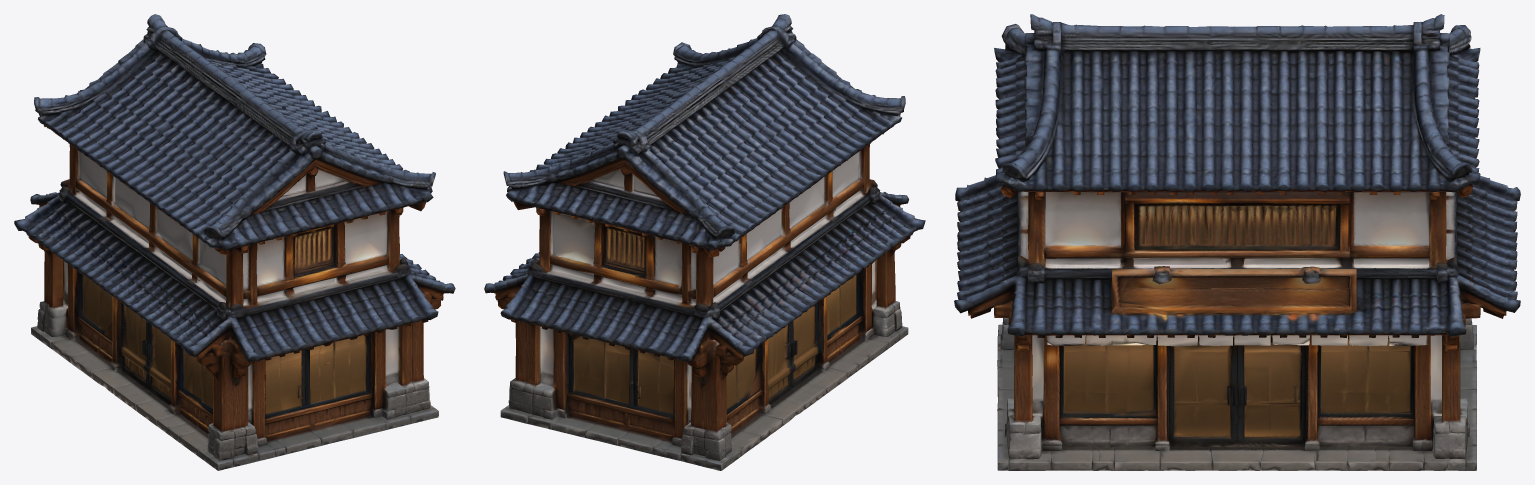
The model's file is level-2-web.glb.
3 renders of one model, left to right at view 1: azimuth 30°, elevation 25°; view 2: azimuth 150°, elevation 25°; view 3: azimuth 270°, elevation 25°, orthographic. The views are drawn at different scales.
Parts seen in each view (by area): view 1: tripo_node_2f23357a-4f46-4f3f-8741-fdb46e8d90e6; view 2: tripo_node_2f23357a-4f46-4f3f-8741-fdb46e8d90e6; view 3: tripo_node_2f23357a-4f46-4f3f-8741-fdb46e8d90e6.
Part boxes in pixels (bbox=[...]): tripo_node_2f23357a-4f46-4f3f-8741-fdb46e8d90e6: bbox=[14, 14, 455, 470]; tripo_node_2f23357a-4f46-4f3f-8741-fdb46e8d90e6: bbox=[484, 14, 925, 470]; tripo_node_2f23357a-4f46-4f3f-8741-fdb46e8d90e6: bbox=[954, 14, 1520, 470].
Bounding box in the file's own units: 0.6826 × 0.7411 × 0.9817.
Materials: 1 (1 with a texture image).
